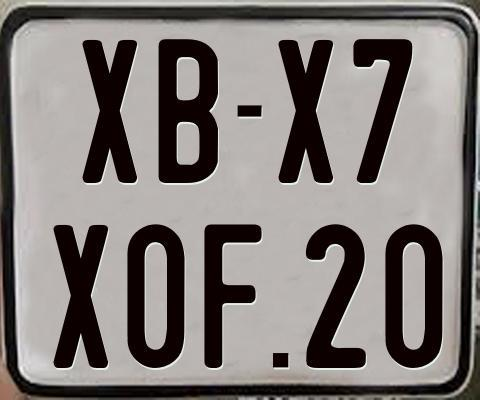0: (383, 221, 444, 371), (127, 221, 186, 367)
2: (306, 222, 369, 367)
7: (350, 38, 415, 187)
B: (158, 37, 222, 184)
F: (201, 223, 264, 367)
X: (278, 40, 338, 187), (50, 225, 108, 374), (82, 39, 139, 184)
